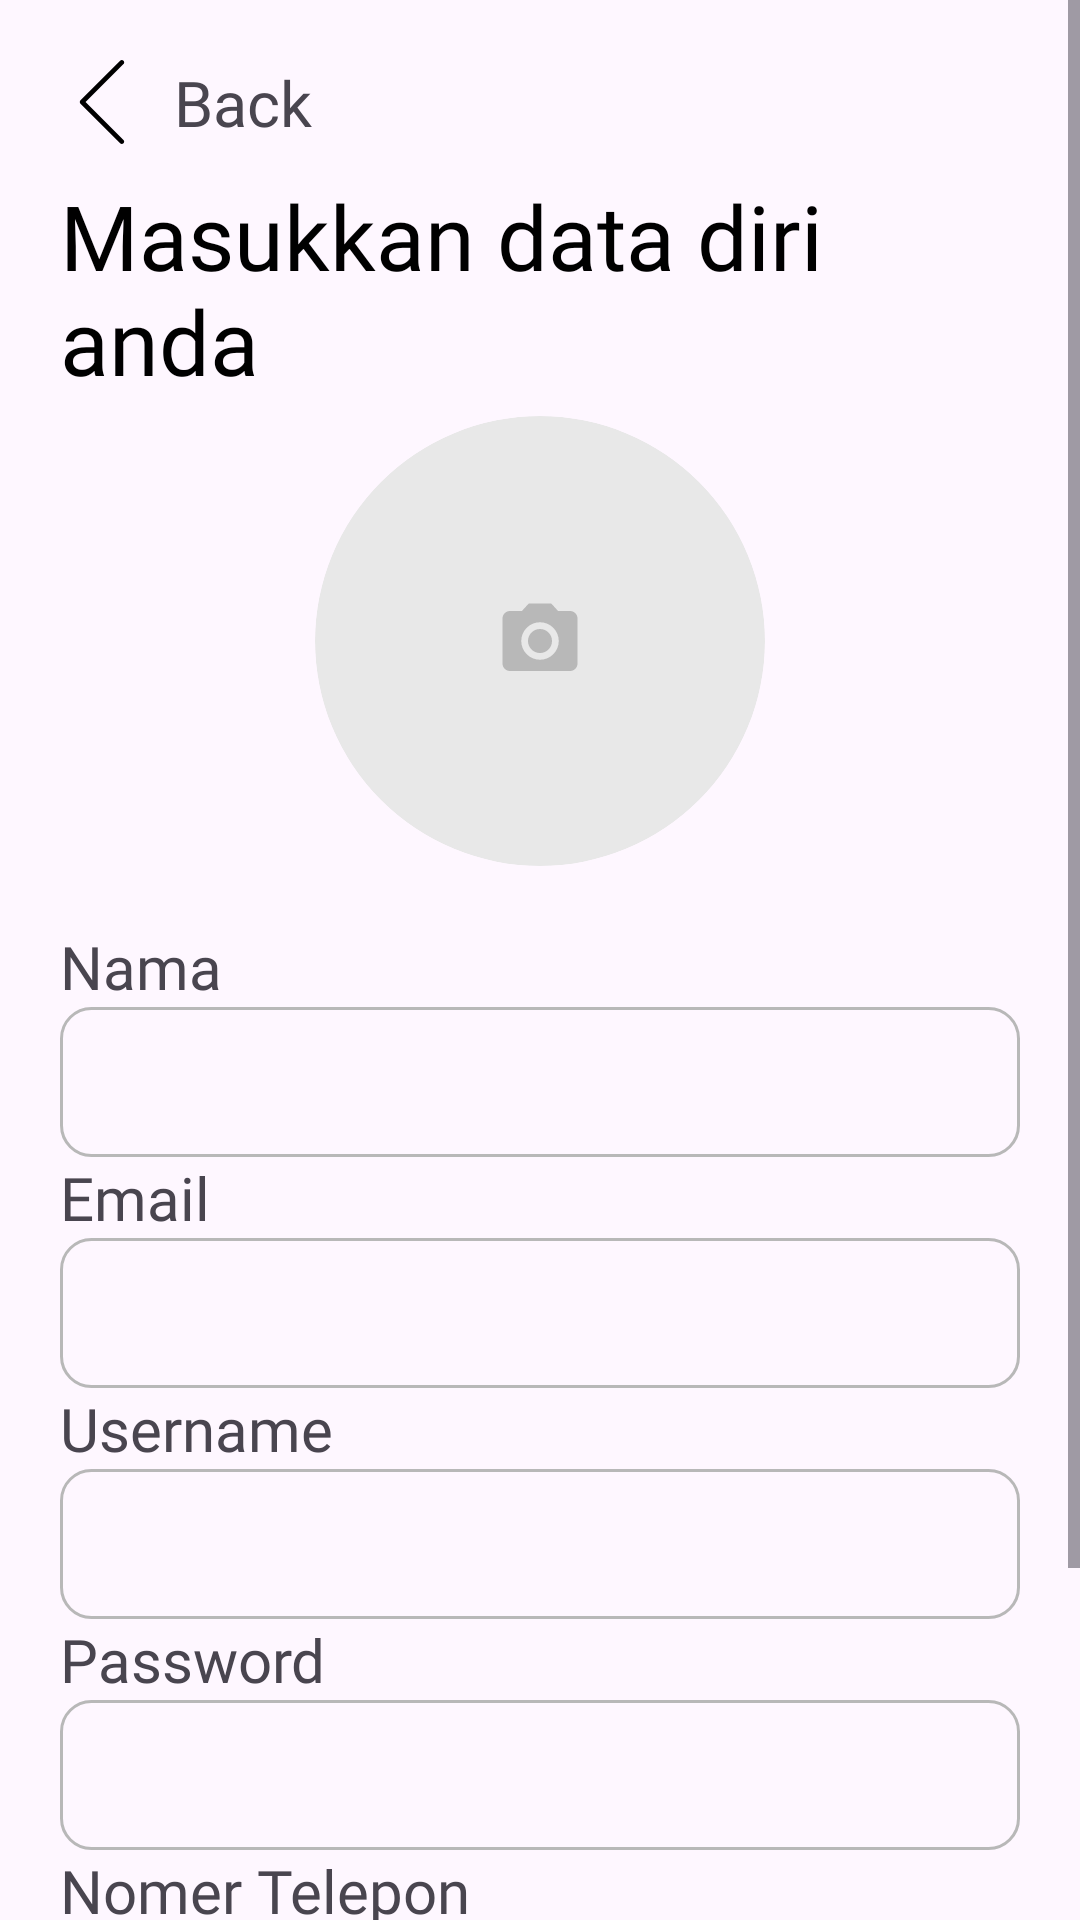

Where to tap for icons on this 1080px×1920px app screen, as (x,y):
camera: (540,637)
